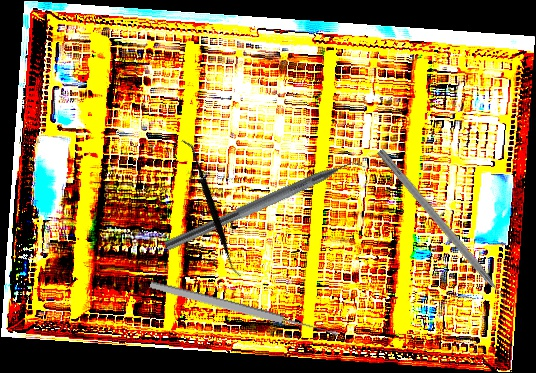Chopper: (367, 148, 516, 318), (164, 148, 375, 265)
Spatula Surgical: (136, 138, 286, 279)
Surgical Spoon: (148, 279, 340, 340)
